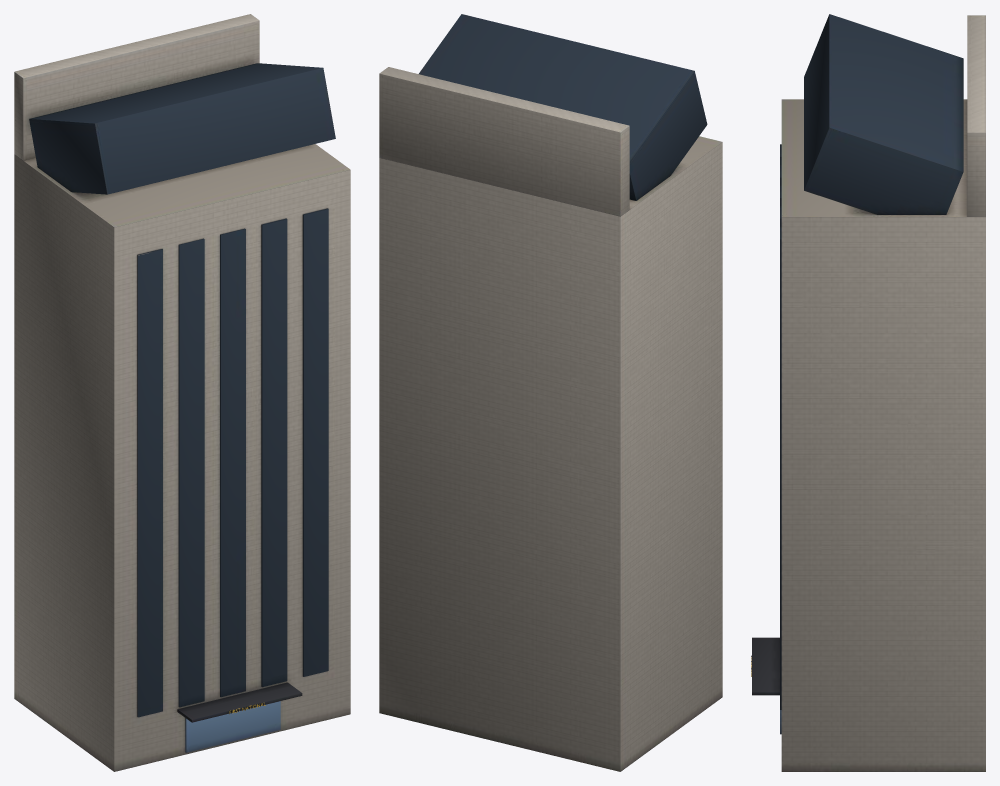
Rendered from first_national.glb.
The picture shows the model from 3 angles, left to right: view 1: azimuth 30°, elevation 25°; view 2: azimuth 150°, elevation 25°; view 3: azimuth 270°, elevation 25°; orthographic projection.
Visible parts, largest first — view 1: first_national; view 2: first_national; view 3: first_national.
Part boxes in pixels (box(x1,y1,x2,y2)): first_national: box(14, 14, 350, 771); first_national: box(379, 14, 722, 771); first_national: box(751, 14, 985, 771).
Size of the model in its own units: 30 by 76.39 by 25.3.
Materials: 1 (1 with a texture image).
